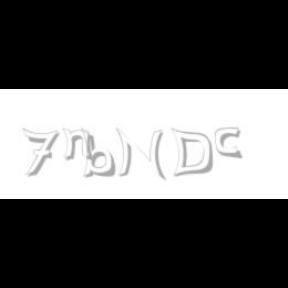7: (22, 128, 60, 178)
D: (170, 128, 214, 178)
N: (115, 128, 164, 180)
b: (81, 128, 119, 178)
c: (214, 128, 243, 160)
n: (62, 128, 96, 162)
